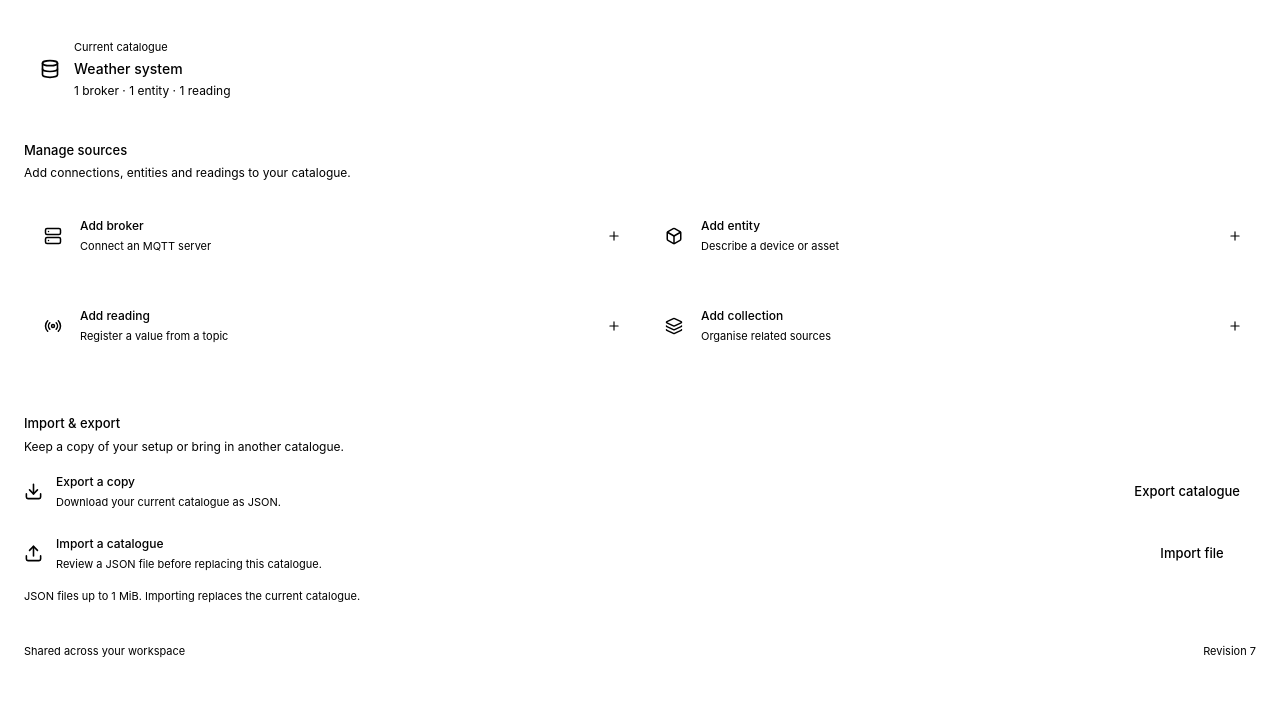
Scenario: explorer settings catalogue files › locks concurrent file actions until export completes and reports failures
Click the button "Export catalogue" at point(1187, 492), box top-left (1118, 470), bottom-right (1256, 514)
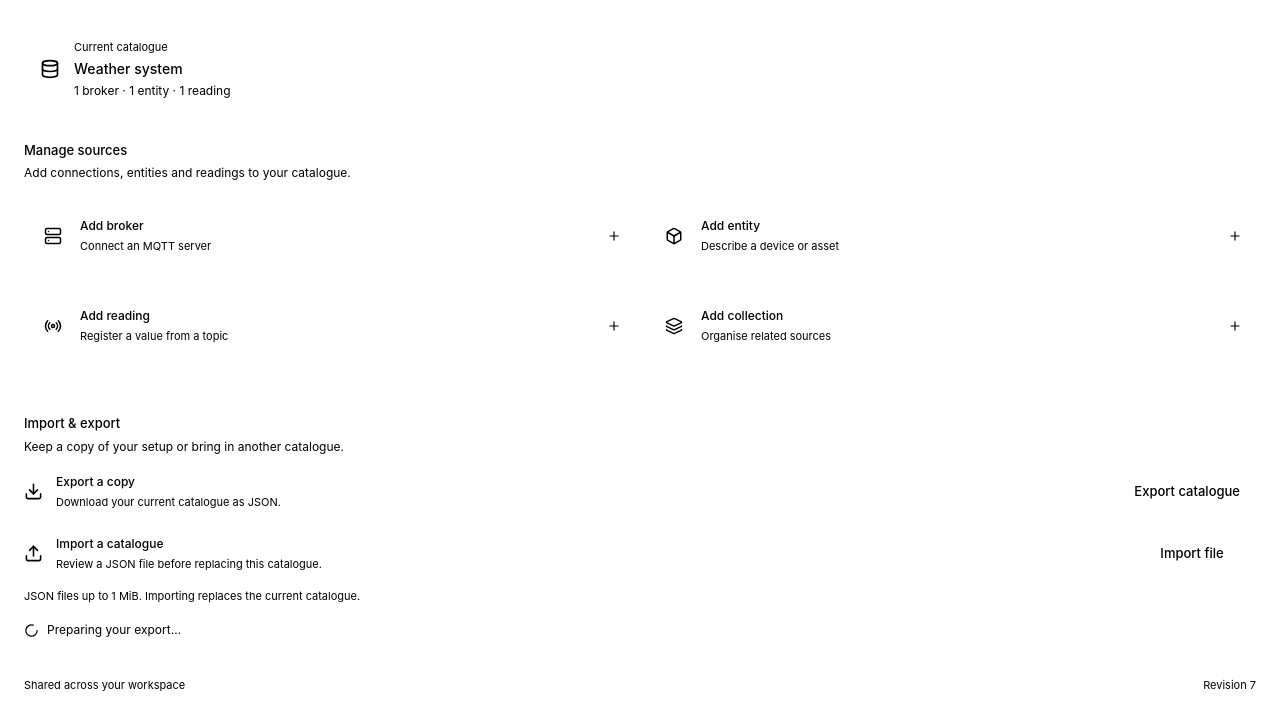
Click the button "Export catalogue" at point(1187, 492), box top-left (1118, 470), bottom-right (1256, 514)
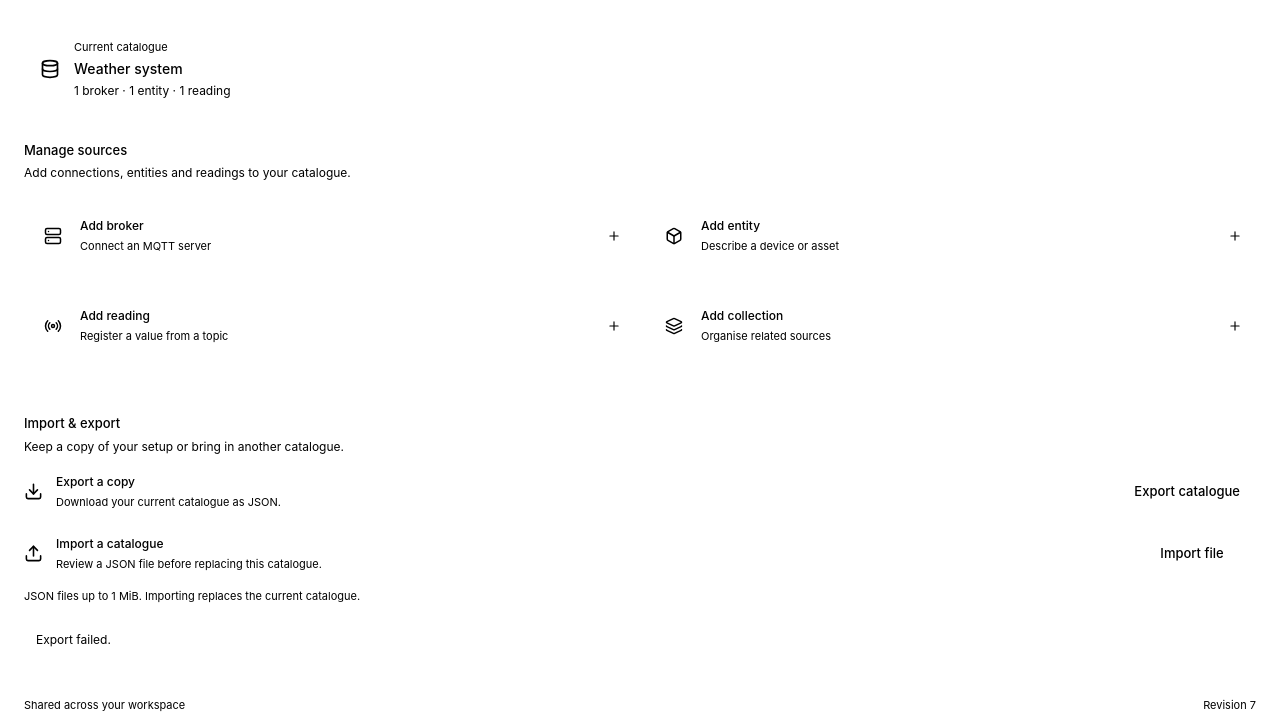
Now the message reads "Export failed.", box top-left (36, 632), bottom-right (111, 647)
